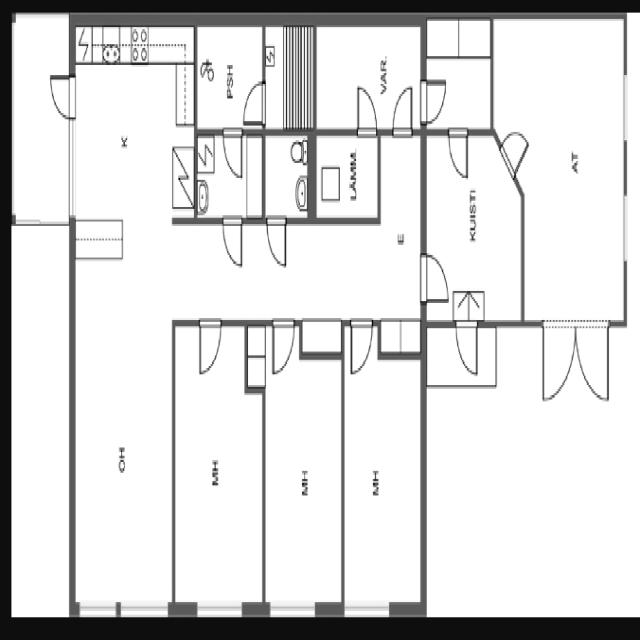door: (538, 323, 614, 407), (454, 295, 481, 381), (418, 249, 451, 308), (196, 315, 223, 381), (346, 315, 374, 378), (46, 68, 78, 123), (445, 121, 472, 184), (270, 316, 297, 378), (501, 123, 530, 179), (420, 74, 448, 127), (265, 212, 289, 270), (220, 210, 244, 268), (392, 82, 416, 138), (242, 78, 266, 130), (355, 84, 379, 136), (223, 130, 244, 181)
window: (67, 110, 78, 223), (620, 67, 631, 148), (621, 186, 630, 268)
zone: (497, 8, 628, 316), (71, 242, 173, 628), (172, 322, 264, 622), (71, 40, 197, 240), (262, 344, 345, 618), (343, 345, 424, 619), (426, 132, 522, 327), (315, 20, 423, 129), (423, 16, 495, 129), (196, 20, 265, 132), (536, 318, 612, 404), (196, 128, 264, 224), (314, 132, 381, 223), (264, 20, 316, 130), (264, 132, 310, 218)
